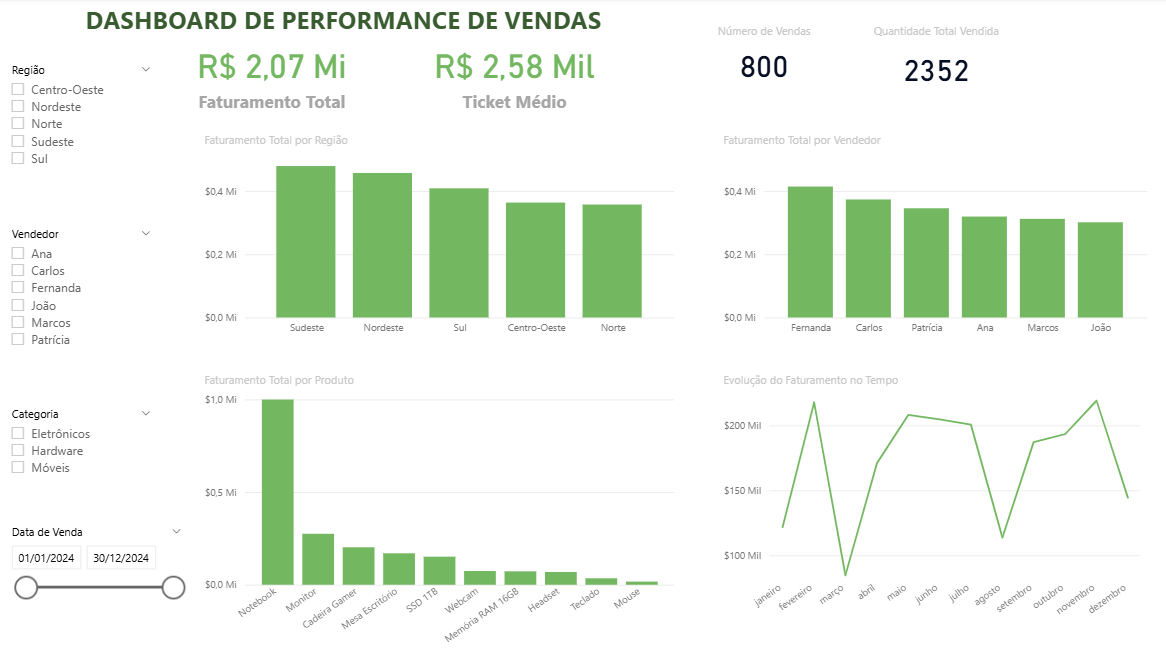

Layout of this report page (visuals, bound fields, positions):
{"tool":"powerbi","page":{"name":"Página 1","canvas":[1280,720],"ordinal":0},"visuals":[{"type":"card","fields":{"Values":["Sheet1.Ticket Médio"]},"box":[421.6,37.9,283.6,91],"z":0},{"type":"card","fields":{"Values":["Sheet1.Faturamento Total"]},"box":[174.4,37.9,247.2,91],"z":1000},{"type":"card","title":"Número de Vendas","fields":{"Values":["Sheet1.Número de Vendas"]},"box":[735.5,27.3,201.7,74.3],"z":2000},{"type":"card","title":"Quantidade Total Vendida","fields":{"Values":["Sheet1.Quantidade Total"]},"box":[937.3,27.3,175.9,83.4],"z":3000},{"type":"columnChart","fields":{"Category":["Sheet1.Região"],"Y":["Sheet1.Faturamento Total"]},"box":[219,146.7,524.5,232.1],"z":4000},{"type":"columnChart","fields":{"Category":["Sheet1.Vendedor"],"Y":["Sheet1.Faturamento Total"]},"box":[787.3,146.7,474.1,232.1],"z":5000},{"type":"columnChart","fields":{"Y":["Sheet1.Faturamento Total"],"Category":["Sheet1.Produto"]},"box":[219,409.5,524.5,311],"z":6000},{"type":"lineChart","title":"Evolução do Faturamento no Tempo","fields":{"Category":["Sheet1.Data de Venda.Variation.Hierarquia de datas.Mês"],"Y":["Sheet1.Faturamento Total"]},"box":[787.3,409.5,466.4,278.1],"z":6001},{"type":"slicer","fields":{"Values":["Sheet1.Região"]},"box":[0,65.2,177.4,197.2],"z":6002},{"type":"slicer","fields":{"Values":["Sheet1.Categoria"]},"box":[0,442.8,177.4,128.9],"z":6003},{"type":"slicer","fields":{"Values":["Sheet1.Vendedor"]},"box":[0,245.7,177.4,197.2],"z":6004},{"type":"slicer","fields":{"Values":["Sheet1.Data de Venda"]},"box":[0,571.8,210.8,148.6],"z":6005},{"type":"textbox","box":[88.7,0,595.7,54.7],"z":6006}]}

Visuals, with their boxes in screenshot pixels (x1, y1, x2, y2), scaled from the page's 1280x720 canvas onto the 1166x655 screenshot:
card - Sheet1.Ticket Médio: {"x1": 384, "y1": 34, "x2": 642, "y2": 117}
card - Sheet1.Faturamento Total: {"x1": 159, "y1": 34, "x2": 384, "y2": 117}
"Número de Vendas" card: {"x1": 670, "y1": 25, "x2": 854, "y2": 92}
"Quantidade Total Vendida" card: {"x1": 854, "y1": 25, "x2": 1014, "y2": 101}
columnChart - Sheet1.Região x Sheet1.Faturamento Total: {"x1": 199, "y1": 133, "x2": 677, "y2": 345}
columnChart - Sheet1.Vendedor x Sheet1.Faturamento Total: {"x1": 717, "y1": 133, "x2": 1149, "y2": 345}
columnChart - Sheet1.Faturamento Total x Sheet1.Produto: {"x1": 199, "y1": 373, "x2": 677, "y2": 654}
"Evolução do Faturamento no Tempo" lineChart: {"x1": 717, "y1": 373, "x2": 1142, "y2": 626}
slicer - Sheet1.Região: {"x1": 0, "y1": 59, "x2": 162, "y2": 239}
slicer - Sheet1.Categoria: {"x1": 0, "y1": 403, "x2": 162, "y2": 520}
slicer - Sheet1.Vendedor: {"x1": 0, "y1": 224, "x2": 162, "y2": 403}
slicer - Sheet1.Data de Venda: {"x1": 0, "y1": 520, "x2": 192, "y2": 654}
textbox: {"x1": 81, "y1": 0, "x2": 623, "y2": 50}
